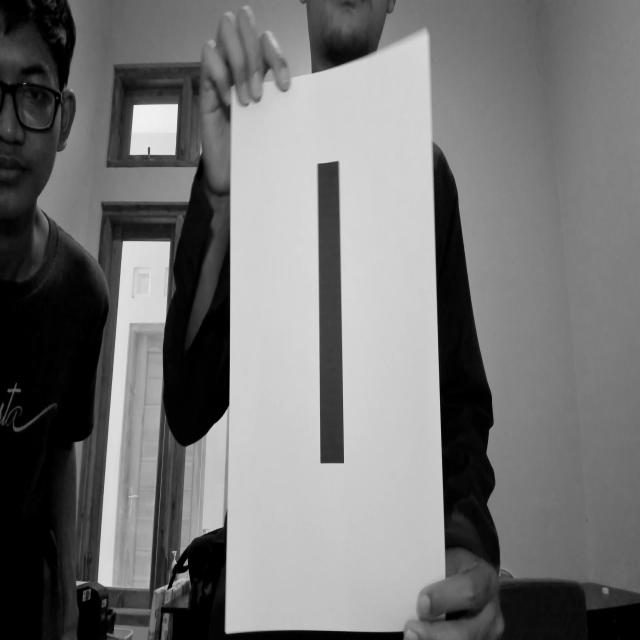i: (288, 136, 380, 516)
